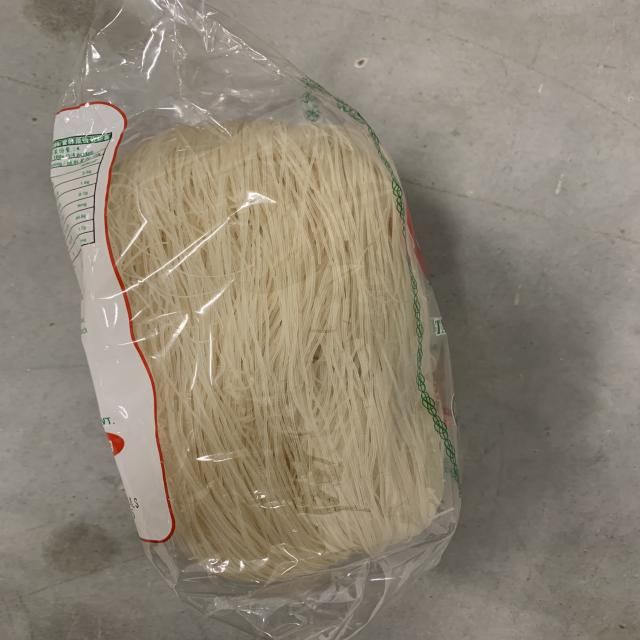object_name: (59, 95, 449, 578)
